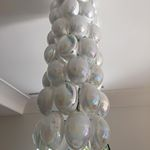other: (54, 78, 81, 117)
